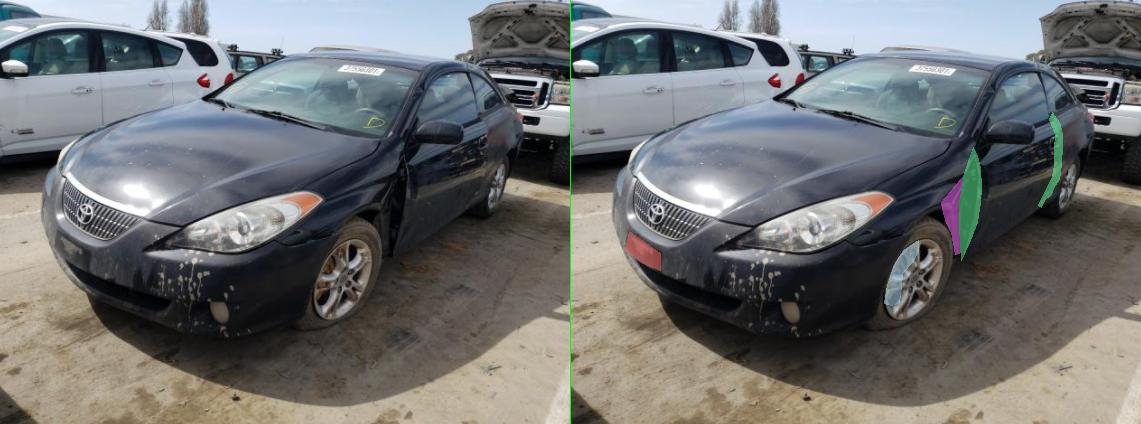Broken part: (777, 147, 821, 260), (935, 112, 983, 207)
Corrosion: (627, 240, 695, 305)
Dent: (741, 173, 789, 254), (785, 158, 815, 253)
Missing part: (108, 231, 178, 270)
